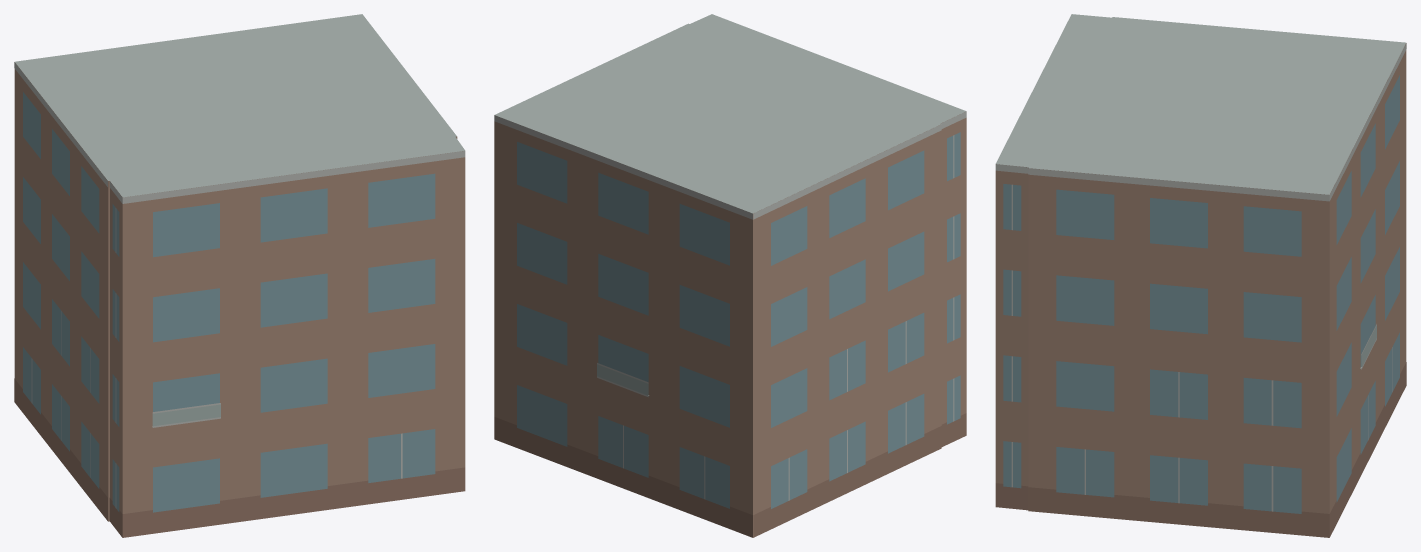
Rendered from survey-upis-32652867.glb.
The picture shows the model from 3 angles, left to right: view 1: azimuth 30°, elevation 25°; view 2: azimuth 150°, elevation 25°; view 3: azimuth 270°, elevation 25°; orthographic projection. The views are drawn at different scales.
Parts seen in each view (by area): view 1: survey-upis-32652867.tmp; view 2: survey-upis-32652867.tmp; view 3: survey-upis-32652867.tmp.
Boxes of the visible parts, x1=… form: survey-upis-32652867.tmp: x1=14, y1=14, x2=465, y2=537; survey-upis-32652867.tmp: x1=494, y1=14, x2=966, y2=537; survey-upis-32652867.tmp: x1=995, y1=14, x2=1406, y2=537.
Size of the model in its own units: 14.37 by 12.7 by 13.8.
